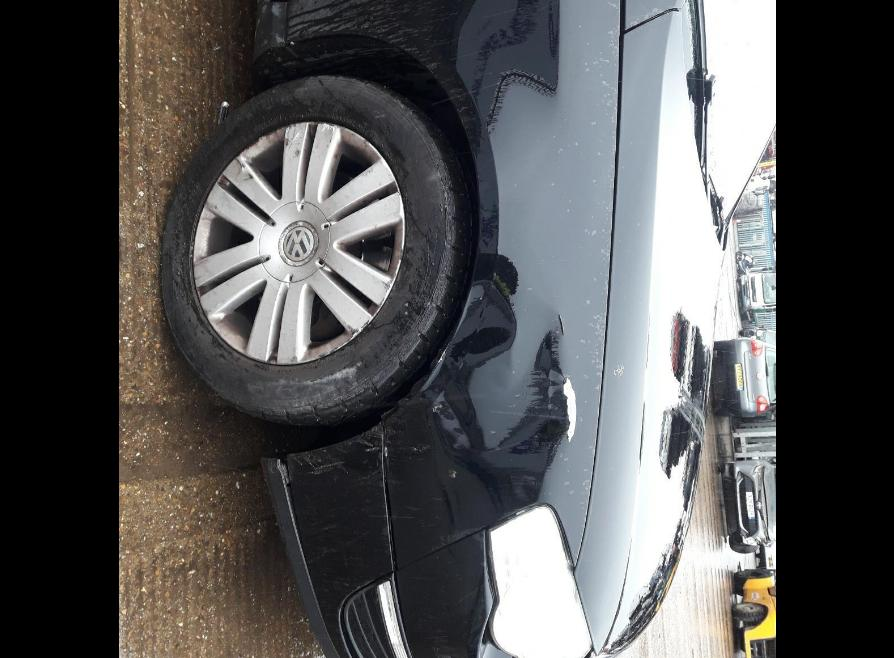Broken part: (259, 453, 294, 502)
Dent: (418, 278, 565, 469), (508, 477, 539, 505)
Paint chip: (561, 374, 577, 444), (489, 273, 516, 308), (427, 343, 449, 370), (551, 315, 567, 337), (432, 402, 446, 412)
Scratch: (310, 339, 349, 360), (234, 156, 251, 181), (283, 124, 299, 150), (360, 160, 379, 177), (341, 322, 361, 337), (283, 348, 298, 363), (318, 123, 337, 134), (203, 302, 219, 314), (194, 259, 211, 268), (383, 443, 389, 466), (381, 278, 395, 287), (206, 202, 220, 211), (358, 319, 369, 330), (449, 468, 458, 480), (361, 140, 370, 148), (327, 133, 333, 145), (193, 275, 203, 281), (398, 247, 402, 262), (293, 150, 300, 157)
